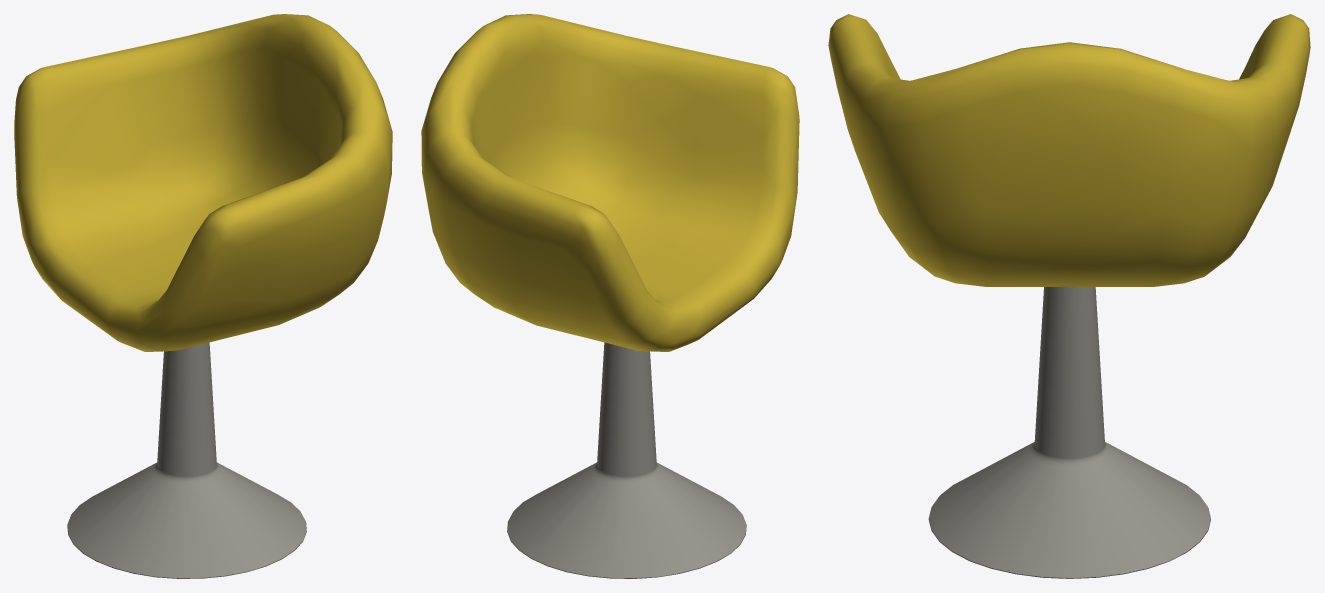
Rendered from chair_09_yellow.fbx.
3 renders of one model, left to right at view 1: azimuth 30°, elevation 25°; view 2: azimuth 150°, elevation 25°; view 3: azimuth 270°, elevation 25°, orthographic. The views are drawn at different scales.
Visible parts, largest first — view 1: chair_09_yellow; view 2: chair_09_yellow; view 3: chair_09_yellow.
Boxes of the visible parts, x1,y1,x2,y2 form: chair_09_yellow: [14, 14, 392, 578]; chair_09_yellow: [421, 14, 799, 578]; chair_09_yellow: [828, 14, 1310, 578].
Size of the model in its own units: 53.94 by 92.73 by 73.24.
2 materials, 2 textured.
